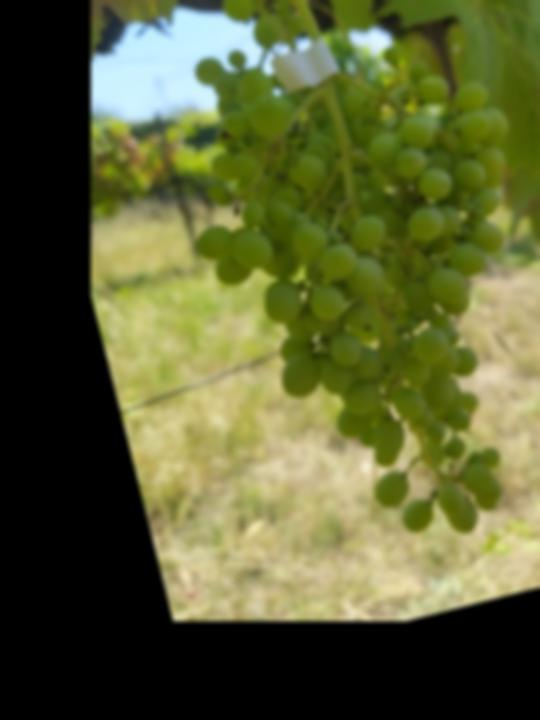grape: (144, 0, 540, 586)
